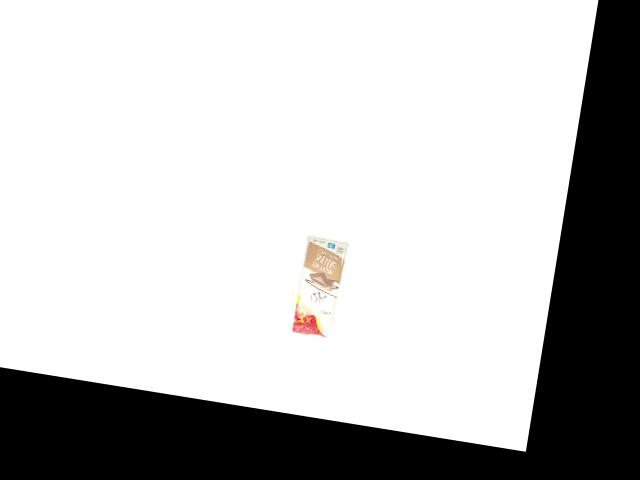chocolate: (288, 237, 349, 341)
